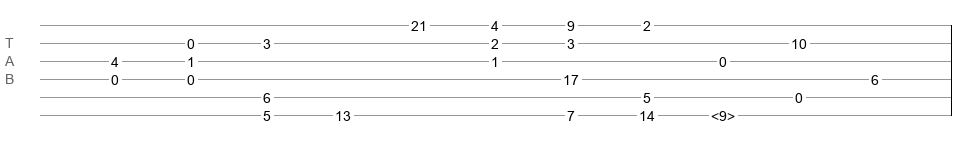0: (111, 72, 119, 82), (187, 72, 195, 82), (187, 36, 195, 46), (719, 54, 727, 64), (795, 90, 803, 100)
1: (187, 54, 195, 64), (491, 54, 499, 64)
10: (791, 36, 807, 46)
13: (335, 108, 351, 118)
14: (639, 108, 655, 118)
17: (563, 72, 579, 82)
2: (491, 36, 499, 46), (643, 18, 651, 28)
21: (411, 18, 427, 28)
3: (263, 36, 271, 46), (567, 36, 575, 46)
4: (111, 54, 119, 64), (491, 18, 499, 28)
5: (263, 108, 271, 118), (643, 90, 651, 100)
6: (263, 90, 271, 100), (871, 72, 879, 82)
7: (567, 108, 575, 118)
9: (567, 18, 575, 28)
harmonic: (711, 108, 735, 118)
